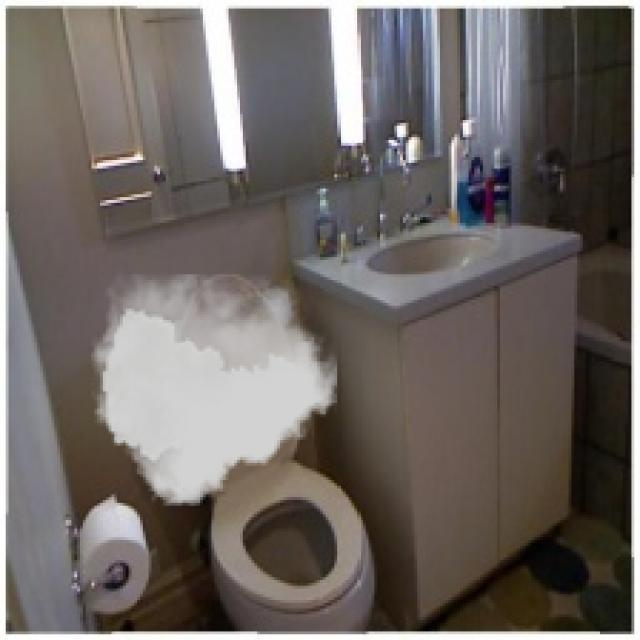Smoke: (91, 274, 338, 506)
